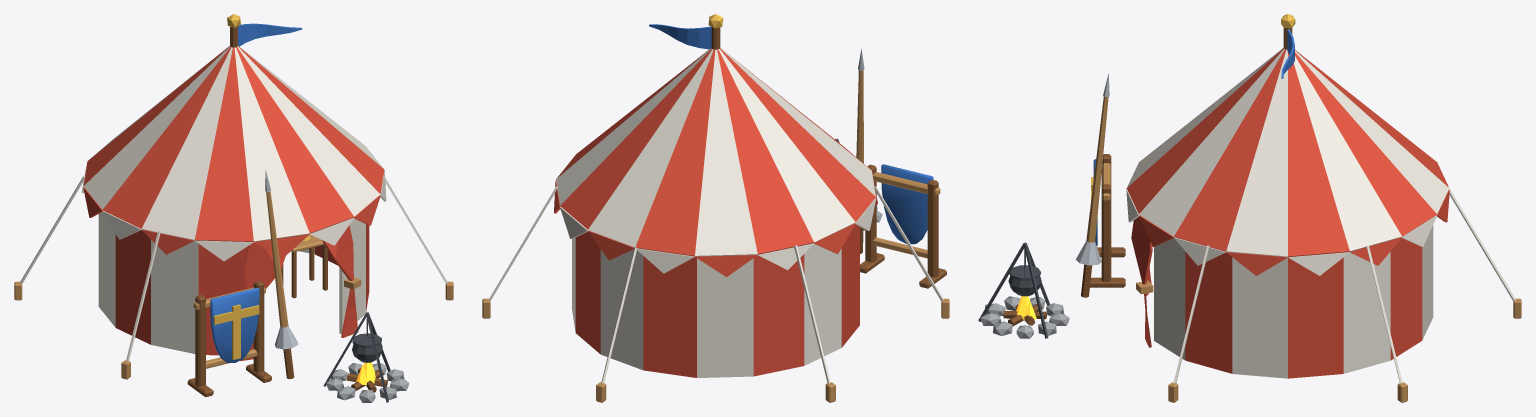
The model's file is knights-tent-camp.glb.
3 renders of one model, left to right at view 1: azimuth 30°, elevation 25°; view 2: azimuth 150°, elevation 25°; view 3: azimuth 270°, elevation 25°, orthographic. The views are drawn at different scales.
Visible parts, largest first — view 1: Tent_Roof, Tent_Wall, Tent_Valance, Shield, Tent_Flap_R, Tent_Flap_L, Lance_Shaft, Stand_Post, Stand_Post.001, Pennant, Guy_Rope.003, Shield_Bar (+4 smaller); view 2: Tent_Roof, Tent_Wall, Tent_Valance, Shield, Stand_Post, Pennant, Lance_Shaft, Stand_Bar_Top, Guy_Rope.002, Stand_Post.001, Guy_Rope.001, Guy_Rope.003 (+1 smaller); view 3: Tent_Roof, Tent_Wall, Tent_Valance, Lance_Shaft, Tent_Flap_R, Stand_Post.001, Guy_Rope.001, Guy_Rope, Guy_Rope.004.
Part boxes in pixels (x1,y1,x2,y2): Tent_Roof: (83, 46, 384, 241); Tent_Wall: (98, 212, 369, 355); Tent_Valance: (81, 162, 386, 261); Shield: (210, 287, 259, 362); Tent_Flap_R: (322, 225, 358, 337); Tent_Flap_L: (240, 242, 285, 360); Lance_Shaft: (266, 191, 288, 328); Stand_Post: (195, 295, 205, 386); Stand_Post.001: (253, 280, 264, 372); Pennant: (238, 23, 302, 46); Guy_Rope.003: (126, 231, 160, 361); Shield_Bar: (213, 305, 259, 324); Tent_Roof: (556, 47, 875, 256); Tent_Wall: (572, 224, 859, 377); Tent_Valance: (554, 171, 877, 277); Shield: (881, 164, 933, 244); Stand_Post: (927, 179, 938, 277); Pennant: (649, 24, 711, 49); Lance_Shaft: (856, 70, 863, 163); Stand_Bar_Top: (873, 172, 940, 196); Guy_Rope.002: (794, 245, 830, 383); Stand_Post.001: (865, 164, 876, 262); Guy_Rope.001: (601, 245, 636, 383); Guy_Rope.003: (874, 186, 943, 301); Tent_Roof: (1126, 48, 1449, 257); Tent_Wall: (1154, 225, 1433, 378); Tent_Valance: (1126, 188, 1449, 275); Lance_Shaft: (1086, 96, 1108, 242); Tent_Flap_R: (1131, 217, 1152, 347); Stand_Post.001: (1101, 184, 1111, 281); Guy_Rope.001: (1448, 186, 1515, 300); Guy_Rope: (1366, 245, 1402, 383); Guy_Rope.004: (1173, 245, 1209, 383).
Size of the model in its own units: 17.06 by 14 by 22.74.
